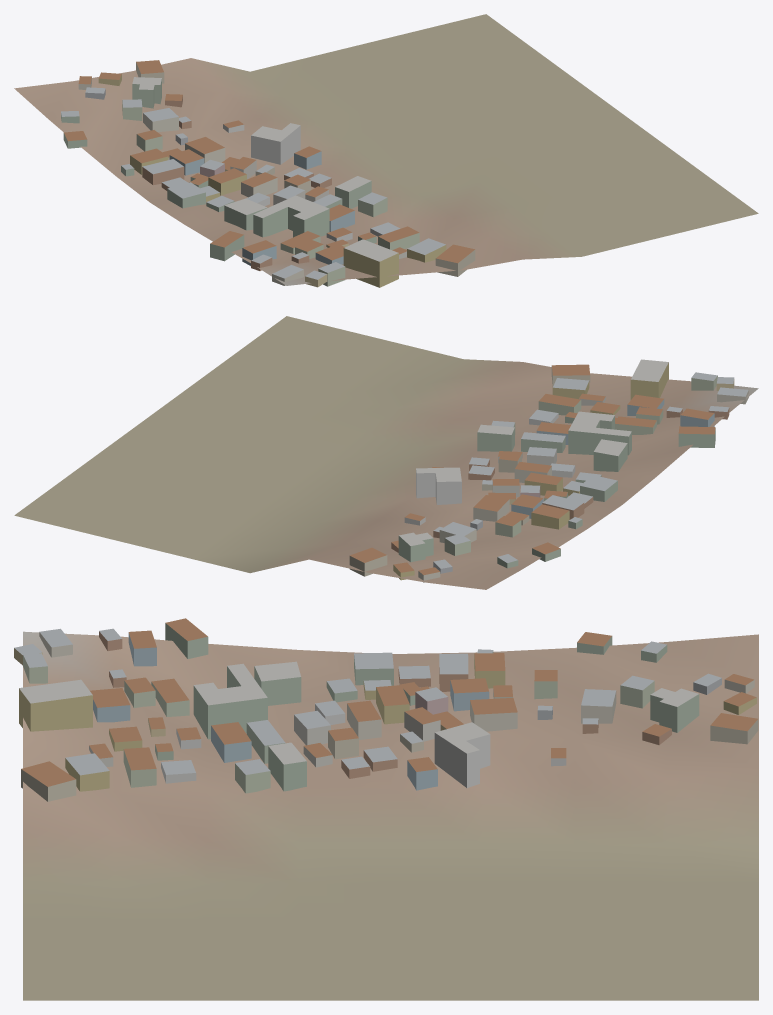
3 renders of one model, top to bottom at view 1: azimuth 30°, elevation 25°; view 2: azimuth 150°, elevation 25°; view 3: azimuth 270°, elevation 25°, orthographic. The views are drawn at different scales.
Visible parts, largest first — view 1: Lo; view 2: Lo; view 3: Lo.
Part boxes in pixels (x1=…): Lo: x1=14, y1=14, x2=758, y2=287; Lo: x1=14, y1=316, x2=758, y2=589; Lo: x1=14, y1=618, x2=758, y2=1000.
Bounding box in the file's own units: 265 × 23.74 × 259.
